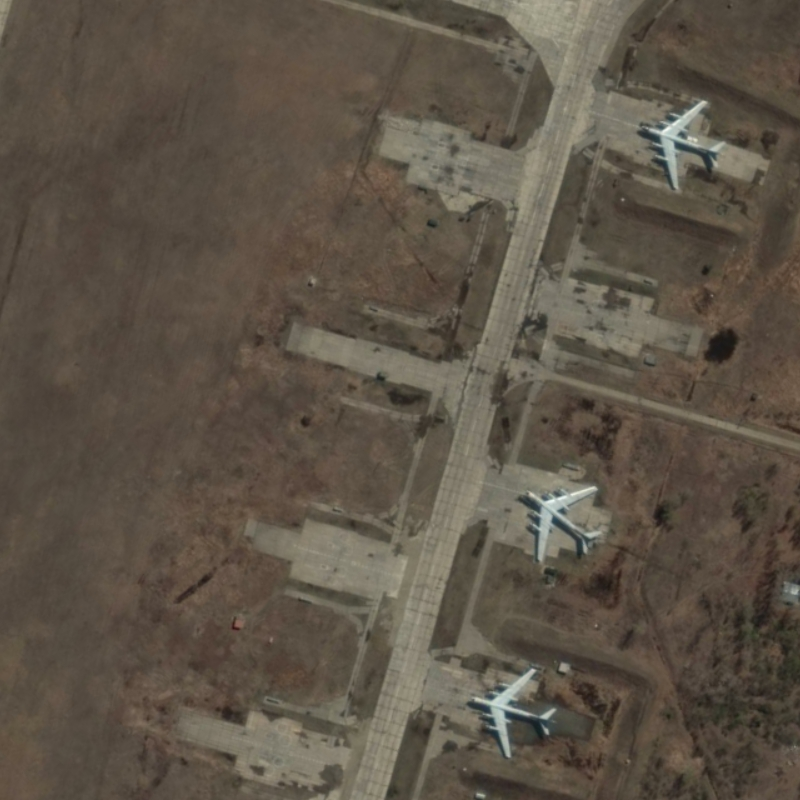A17: (469, 666, 559, 760), (639, 98, 728, 191), (524, 484, 603, 564)
